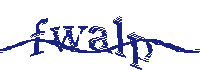a: (90, 27, 109, 53)
f: (30, 17, 48, 56)
l: (112, 14, 126, 59)
p: (127, 32, 152, 70)
w: (50, 22, 87, 54)
